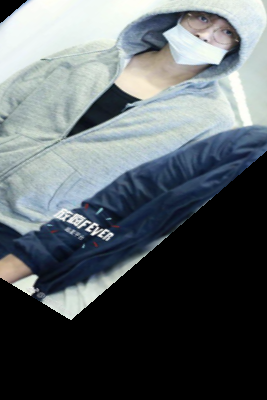mask_weared_incorrect: (154, 3, 267, 85)
